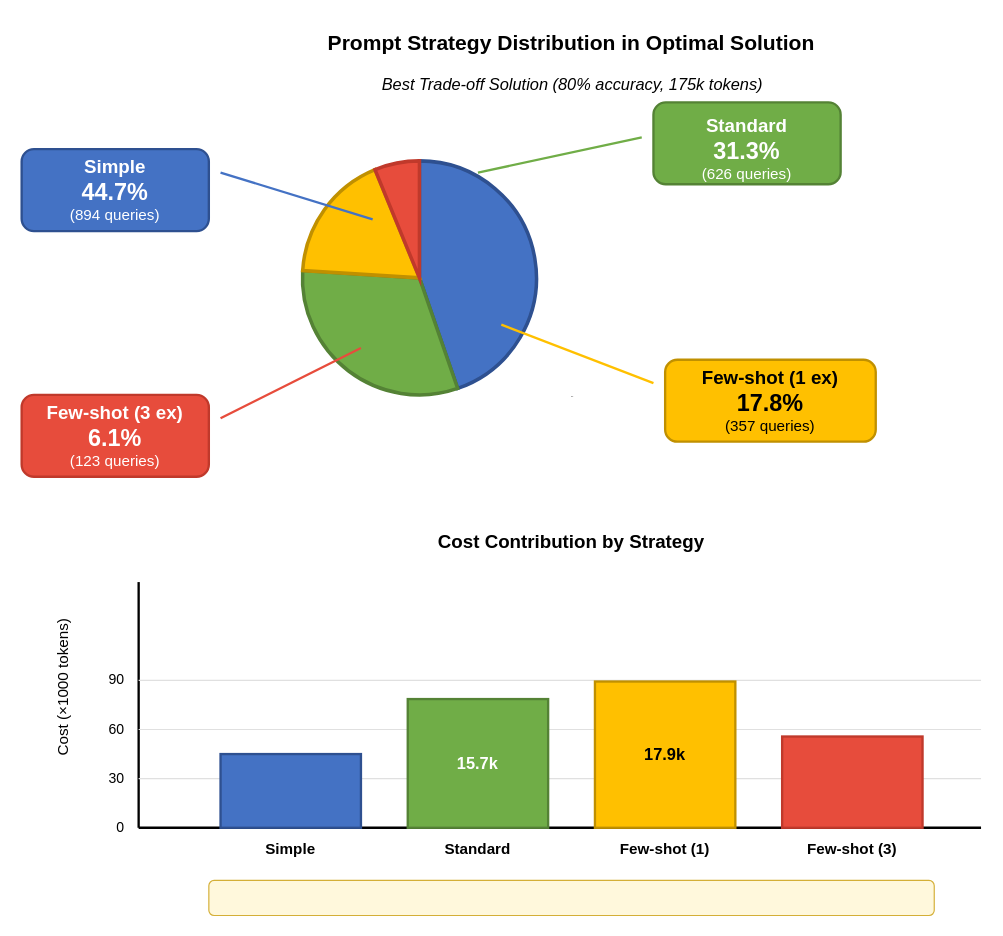
This 1003x936 diagram has some shape labels left out. The shapes that lost their labels are listed below. From the top down, each one's box as (x1, y1, x2, y2) in pixels, then its label:
(219, 752, 362, 828): 8.9k
(780, 735, 923, 828): 11.1k
(208, 879, 934, 916): Total Cost: 53.6k tokens (vs. 200k all-simple, 450k all-few-shot3)
